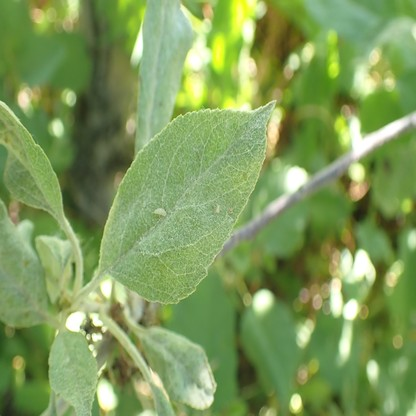powder: (102, 98, 278, 305), (146, 331, 214, 409), (48, 329, 98, 415)
scab: (3, 128, 27, 160)
